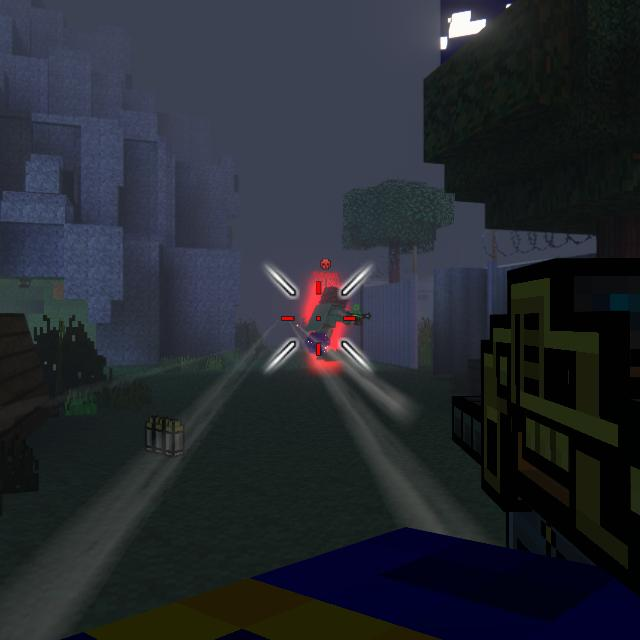Enemy: (300, 288, 352, 358)
